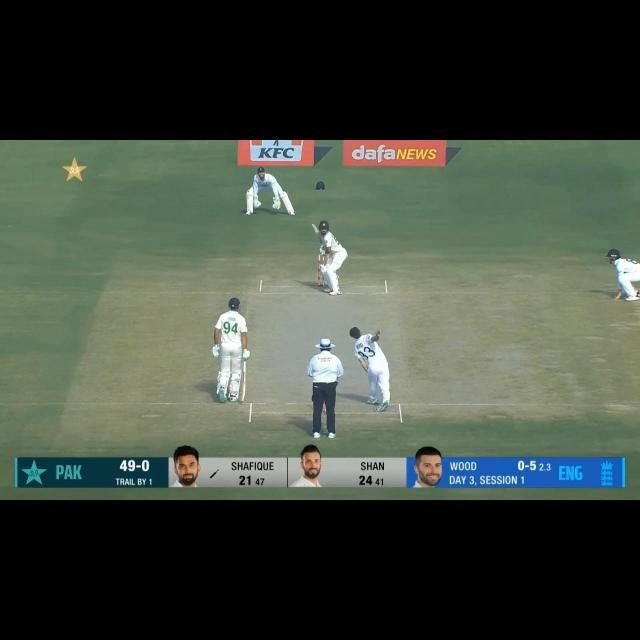bat: (310, 221, 324, 244), (238, 372, 248, 403)
toe: (239, 392, 247, 402), (311, 223, 317, 229)
